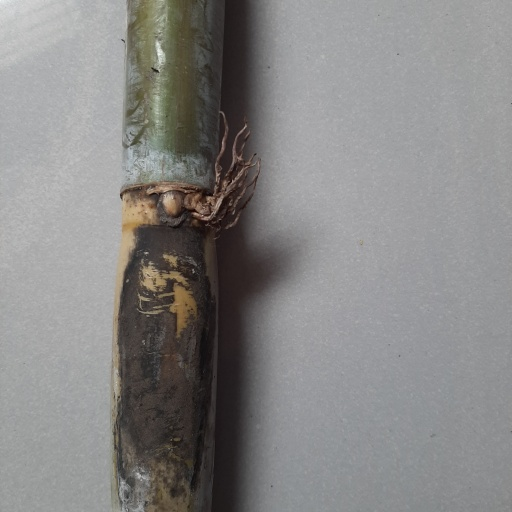Bud: (160, 190, 183, 218)
